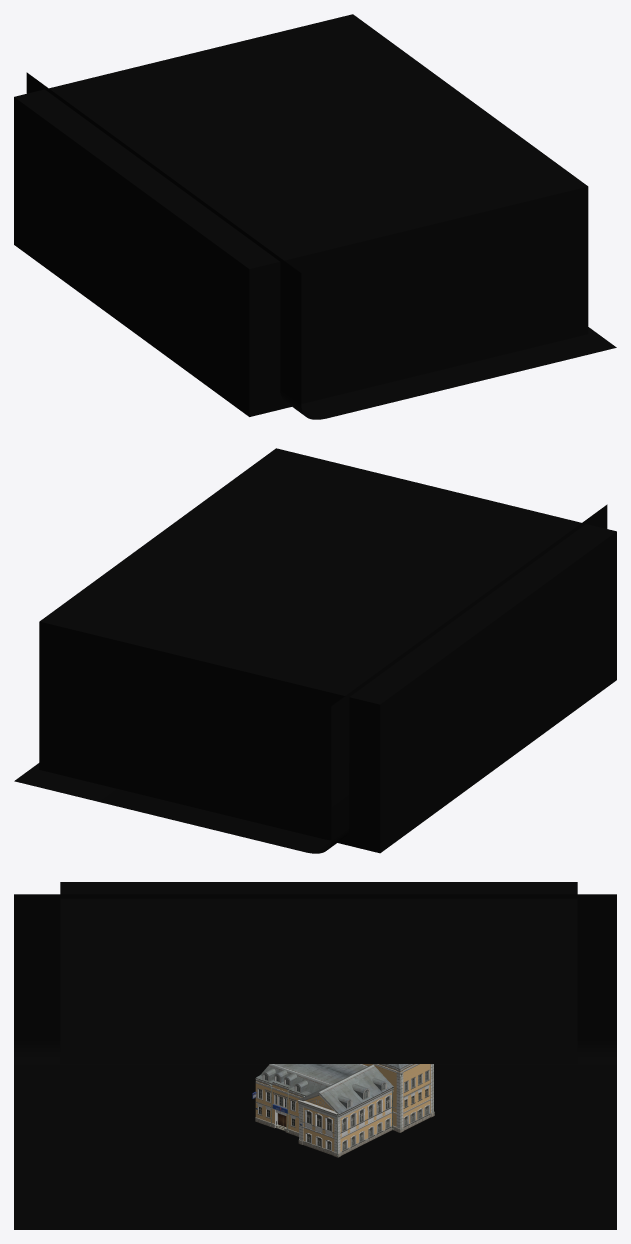
The model's file is dom.FBX.
3 views of the same model, one above another, from view 1: azimuth 30°, elevation 25°; view 2: azimuth 150°, elevation 25°; view 3: azimuth 270°, elevation 25° (orthographic). The views are drawn at different scales.
Parts seen in each view (by area): view 1: Studio; view 2: Studio; view 3: Studio, domik.
Part boxes in pixels (x1,y1,x2,y2): Studio: (14, 14, 616, 419); Studio: (14, 448, 616, 853); Studio: (14, 882, 616, 1229); domik: (252, 1064, 434, 1157).
Size of the model in its own units: 7910 by 3313 by 10858.
